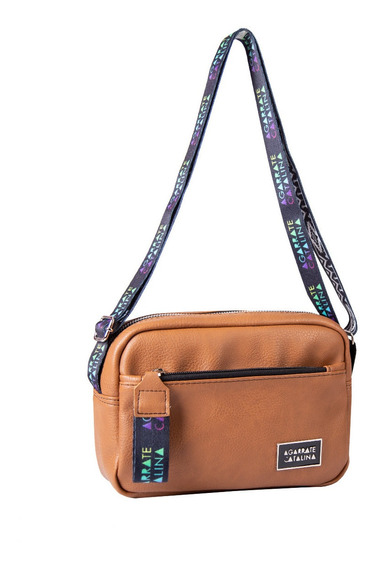cartera: (81, 27, 361, 498)
